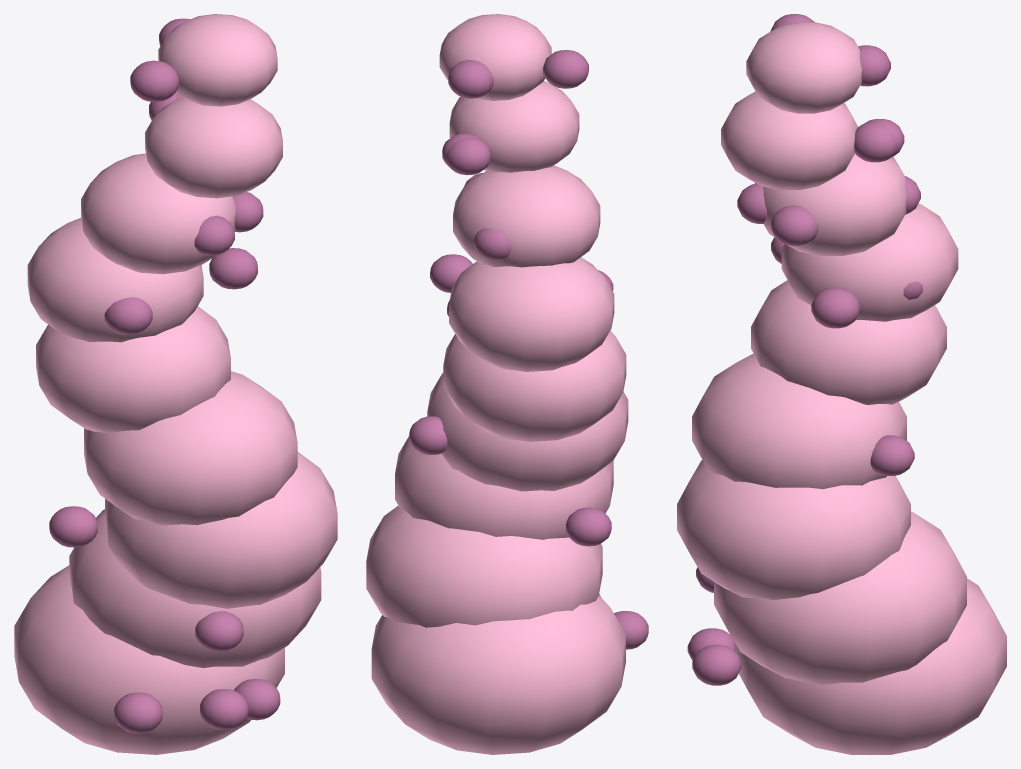
The model's file is alien__coral.fbx.
3 renders of one model, left to right at view 1: azimuth 30°, elevation 25°; view 2: azimuth 150°, elevation 25°; view 3: azimuth 270°, elevation 25°, orthographic. The views are drawn at different scales.
Visible parts, largest first — view 1: alien__coral; view 2: alien__coral; view 3: alien__coral.
Boxes of the visible parts, x1,y1,x2,y2 form: alien__coral: (14,14,337,754); alien__coral: (366,14,648,754); alien__coral: (677,14,1006,754).
Bounding box in the file's own units: 2.11 × 5.81 × 2.39.
